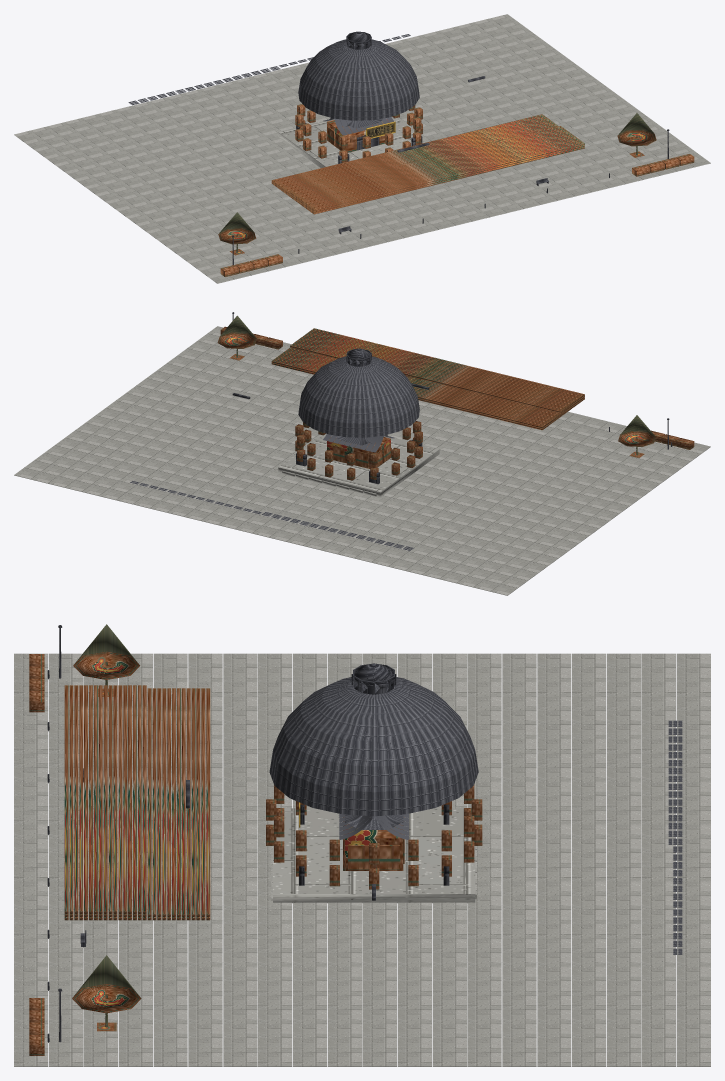
3 views of the same model, one above another, from view 1: azimuth 30°, elevation 25°; view 2: azimuth 150°, elevation 25°; view 3: azimuth 270°, elevation 25° (orthographic). The views are drawn at different scales.
Parts seen in each view (by area): view 1: 11680_01_06097_006_01__plinth_ground_base, 11680_01_06097_006_02__mass_body_facade, 11680_01_06097_006_03__roof_deck_structure, 11680_01_06097_006_06__landscape_greenery, 11680_01_06097_006_05__window_sash_glass, 11680_01_06097_006_05__door_hardware_iron, 11680_01_06097_006_03__roof_metal_ornament; view 2: 11680_01_06097_006_01__plinth_ground_base, 11680_01_06097_006_02__mass_body_facade, 11680_01_06097_006_03__roof_deck_structure, 11680_01_06097_006_06__landscape_greenery, 11680_01_06097_006_05__window_sash_glass, 11680_01_06097_006_03__roof_metal_ornament; view 3: 11680_01_06097_006_01__plinth_ground_base, 11680_01_06097_006_02__mass_body_facade, 11680_01_06097_006_03__roof_deck_structure, 11680_01_06097_006_06__landscape_greenery, 11680_01_06097_006_05__window_sash_glass, 11680_01_06097_006_03__roof_metal_ornament, 11680_01_06097_006_05__door_hardware_iron.
Boxes of the visible parts, x1=… form: 11680_01_06097_006_01__plinth_ground_base: x1=14, y1=14, x2=710, y2=283; 11680_01_06097_006_02__mass_body_facade: x1=271, y1=114, x2=584, y2=214; 11680_01_06097_006_03__roof_deck_structure: x1=128, y1=34, x2=419, y2=135; 11680_01_06097_006_06__landscape_greenery: x1=218, y1=113, x2=694, y2=276; 11680_01_06097_006_05__window_sash_glass: x1=295, y1=104, x2=422, y2=162; 11680_01_06097_006_05__door_hardware_iron: x1=232, y1=123, x2=671, y2=264; 11680_01_06097_006_03__roof_metal_ornament: x1=346, y1=31, x2=485, y2=152; 11680_01_06097_006_01__plinth_ground_base: x1=14, y1=326, x2=710, y2=595; 11680_01_06097_006_02__mass_body_facade: x1=271, y1=328, x2=584, y2=468; 11680_01_06097_006_03__roof_deck_structure: x1=130, y1=356, x2=419, y2=550; 11680_01_06097_006_06__landscape_greenery: x1=217, y1=315, x2=694, y2=457; 11680_01_06097_006_05__window_sash_glass: x1=295, y1=421, x2=422, y2=480; 11680_01_06097_006_03__roof_metal_ornament: x1=232, y1=348, x2=429, y2=399; 11680_01_06097_006_01__plinth_ground_base: x1=14, y1=653, x2=710, y2=1066; 11680_01_06097_006_02__mass_body_facade: x1=64, y1=685, x2=404, y2=920; 11680_01_06097_006_03__roof_deck_structure: x1=269, y1=677, x2=682, y2=954; 11680_01_06097_006_06__landscape_greenery: x1=29, y1=624, x2=141, y2=1055; 11680_01_06097_006_05__window_sash_glass: x1=266, y1=784, x2=482, y2=889; 11680_01_06097_006_03__roof_metal_ornament: x1=186, y1=663, x2=396, y2=900; 11680_01_06097_006_05__door_hardware_iron: x1=47, y1=625, x2=449, y2=1042.
Bounding box in the file's own units: 83.95 × 18.73 × 59.95.
7 materials, 7 textured.
